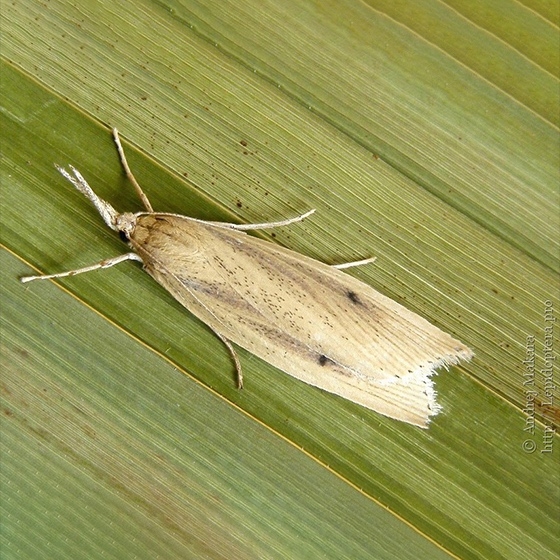Crambidae: (21, 126, 483, 438)
